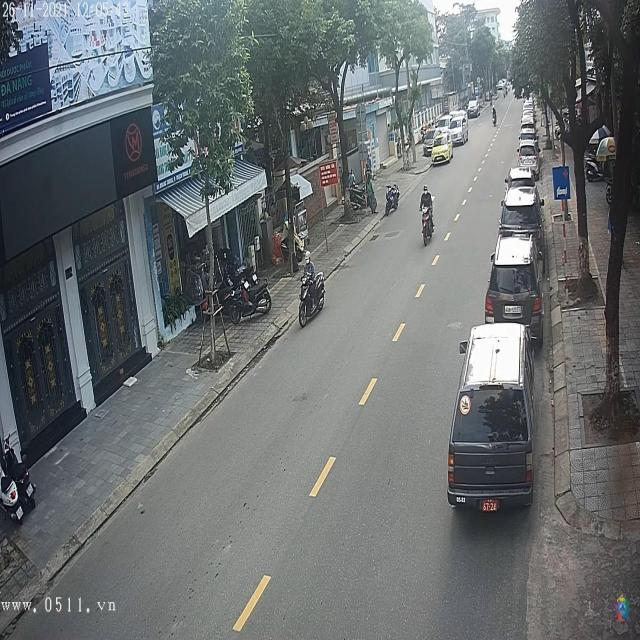car: (448, 325, 534, 511), (485, 234, 544, 337), (500, 187, 544, 239), (467, 98, 481, 118)
motorcycle: (298, 272, 326, 334), (421, 210, 436, 246)
